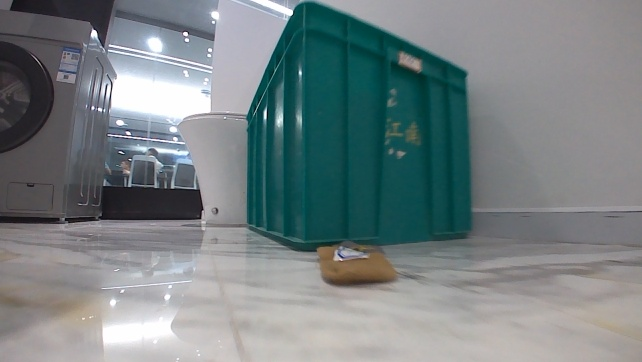socks: (312, 236, 400, 291)
toilet: (174, 108, 256, 229)
washing_machine: (0, 1, 120, 227)
